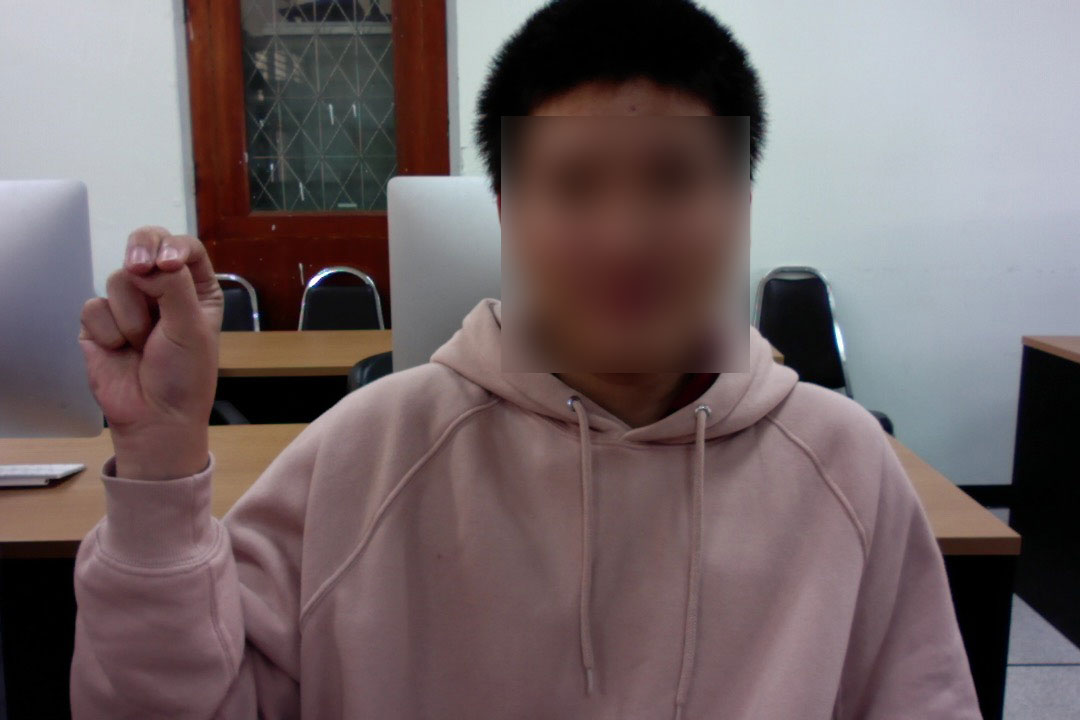nor: (70, 212, 233, 467)
